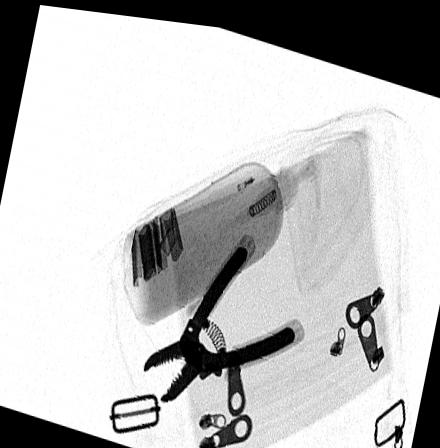Pliers: (139, 233, 293, 399)
